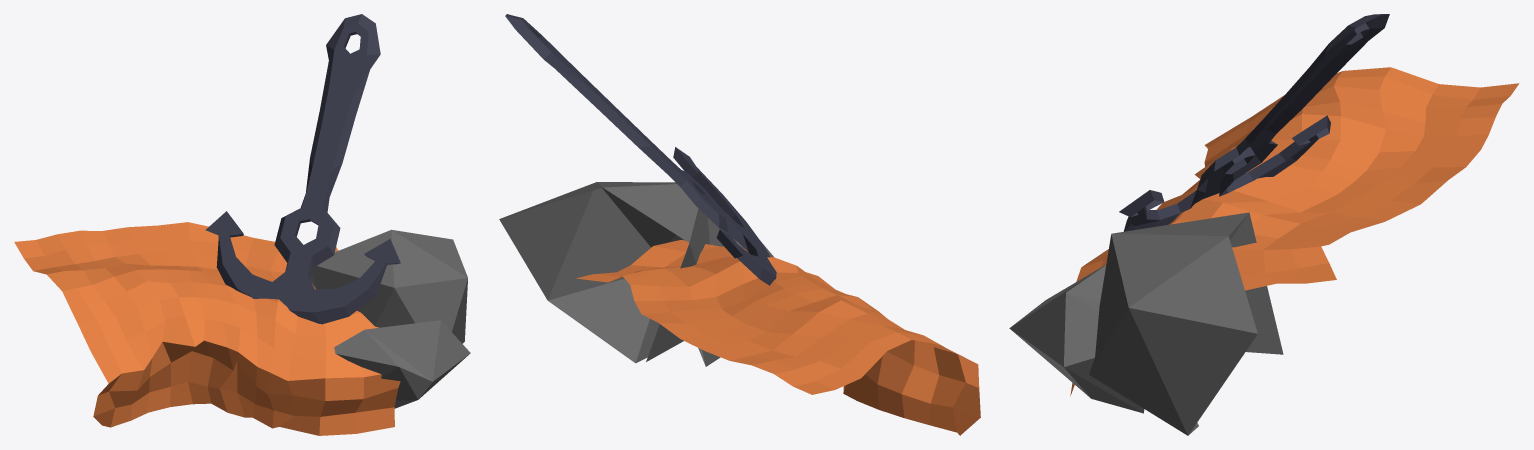
File: background2.fbx
3 views of the same model, side by side, from view 1: azimuth 30°, elevation 25°; view 2: azimuth 150°, elevation 25°; view 3: azimuth 270°, elevation 25° (orthographic). The views are drawn at different scales.
Visible parts, largest first — view 1: SandGround.002, Anchor, Rock.005, Rock.001; view 2: SandGround.002, Rock.005, Anchor, Rock.001; view 3: SandGround.002, Rock.005, Anchor, Rock.001.
Part boxes in pixels (x1,y1,x2,y2): SandGround.002: [14, 222, 400, 435]; Anchor: [205, 14, 400, 324]; Rock.005: [310, 229, 467, 343]; Rock.001: [334, 320, 470, 408]; SandGround.002: [576, 240, 980, 435]; Rock.005: [499, 182, 709, 363]; Anchor: [505, 14, 776, 285]; Rock.001: [669, 217, 773, 366]; SandGround.002: [1070, 67, 1519, 396]; Rock.005: [1089, 212, 1283, 435]; Anchor: [1119, 14, 1389, 231]; Rock.001: [1009, 264, 1144, 413].
Bounding box in the file's own units: 77.85 × 66.64 × 64.66.
